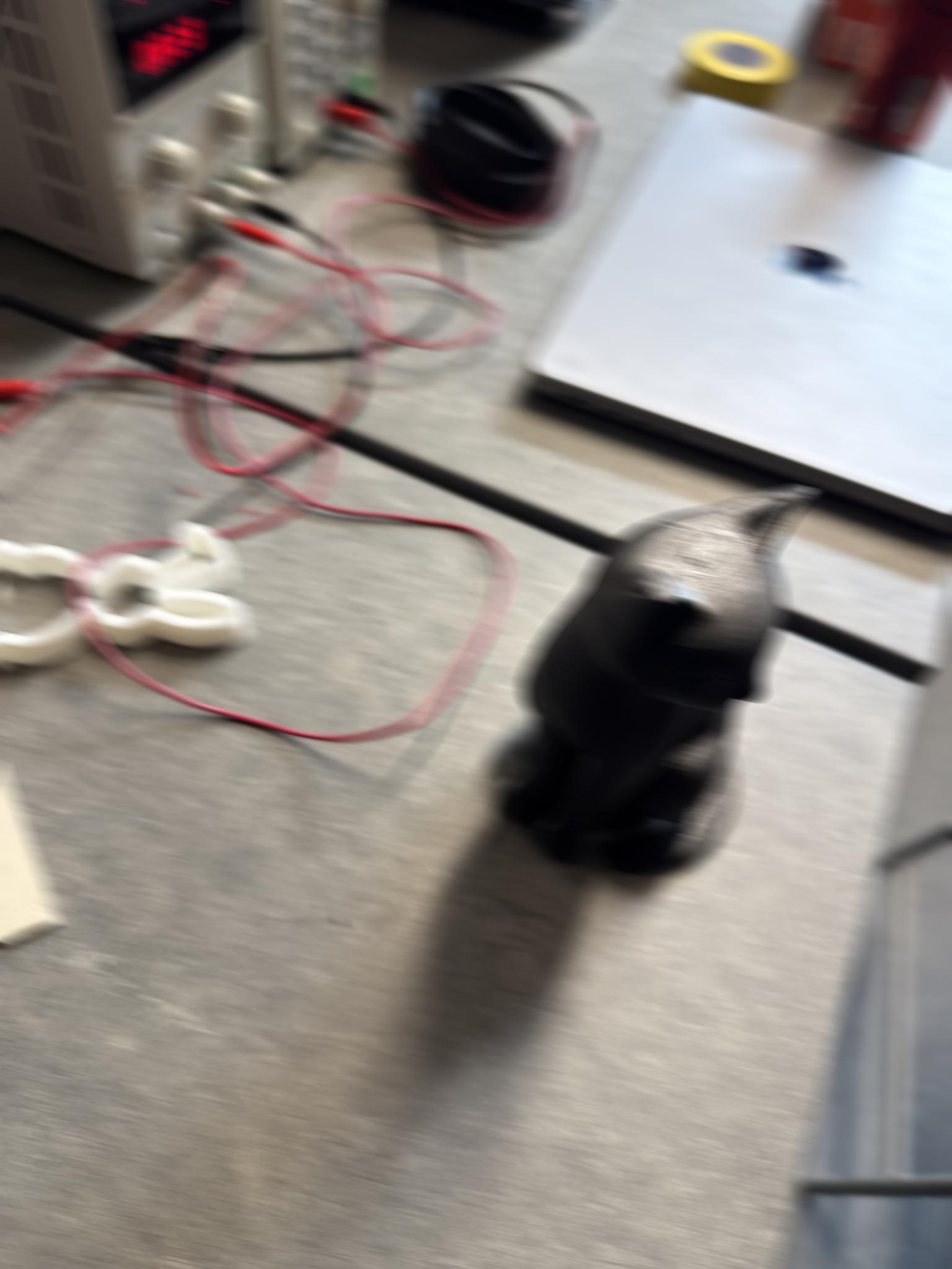cat: (498, 483, 815, 877)
